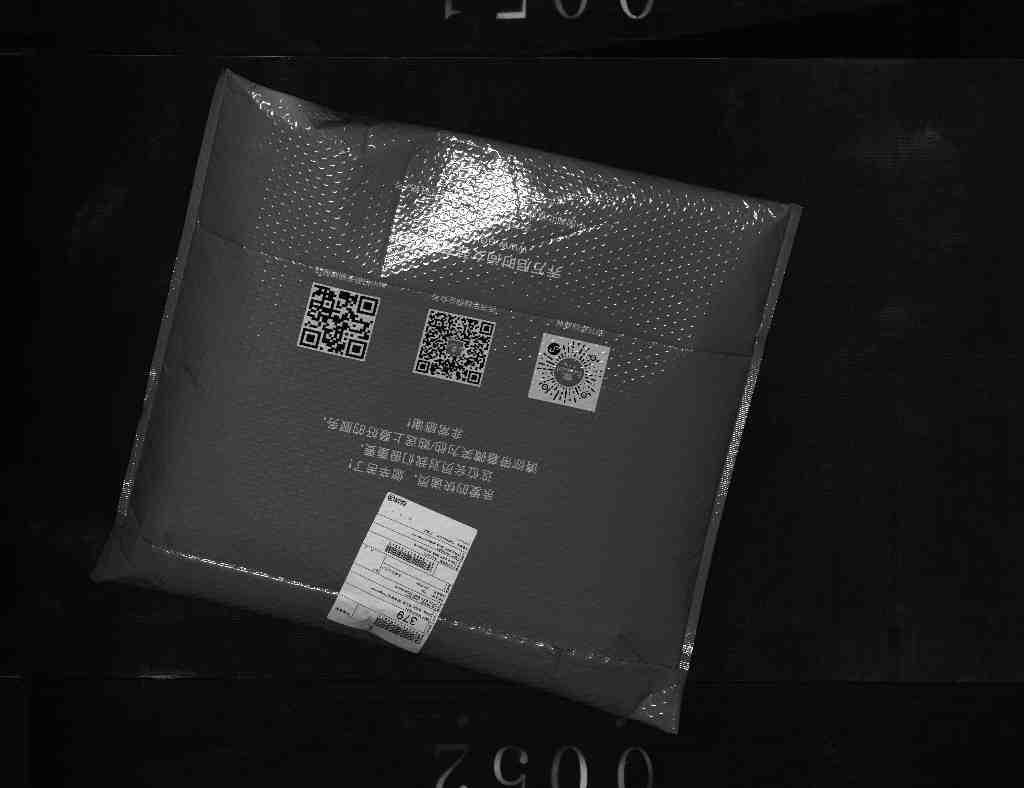box: (85, 70, 816, 737)
